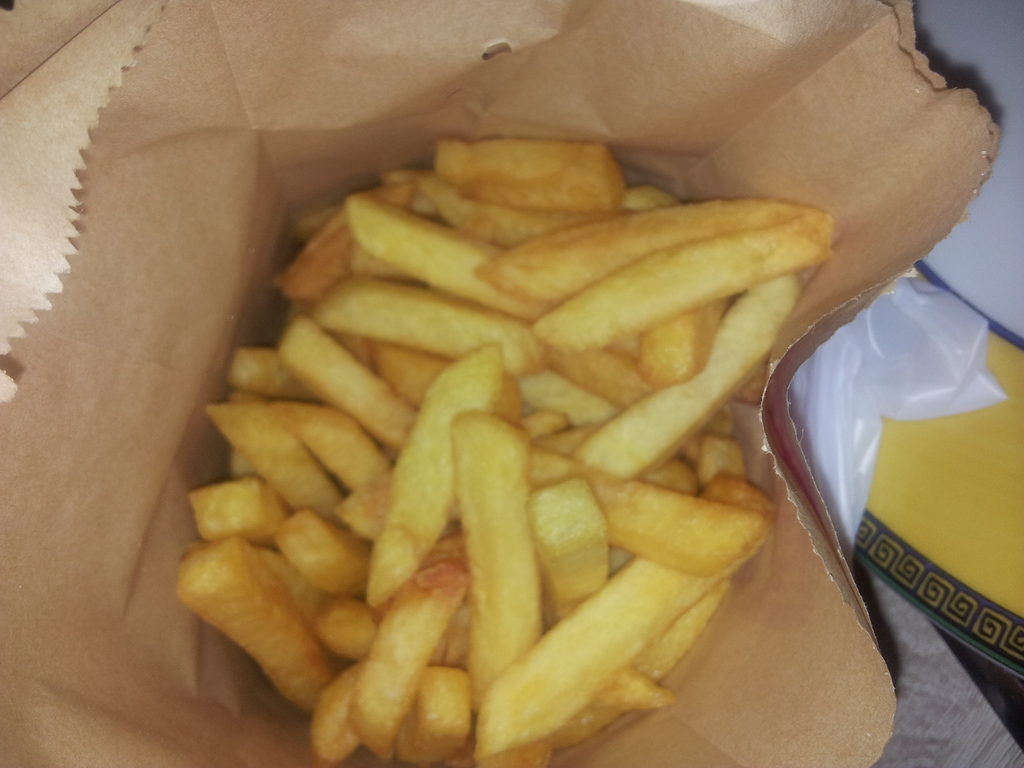French fries: (176, 133, 831, 768)
